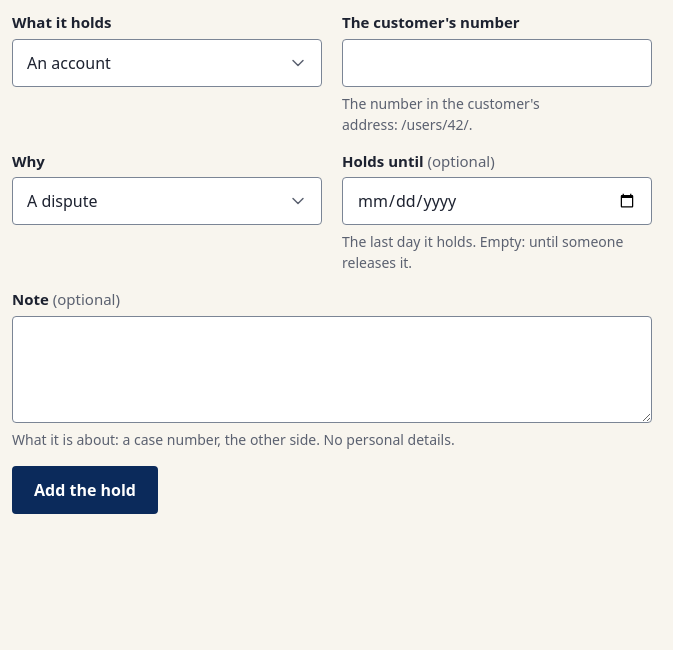
Test: legal holds › puts the API's refusal beside the record's number
Select "A data request" in the dropdown labelled "What it holds" at (167, 63), box x1=12 y1=39 x2=322 y2=87
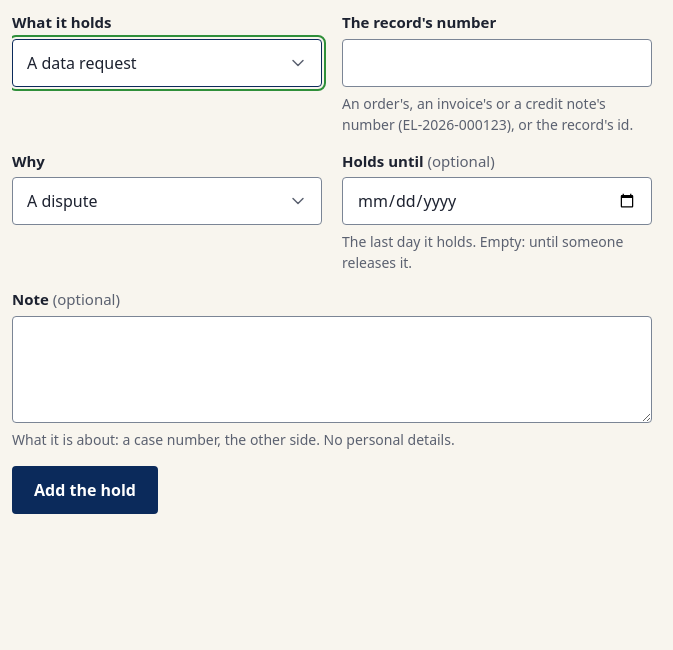
Type "999" into the field labelled "The record's number" at (497, 63), box x1=342 y1=39 x2=652 y2=87
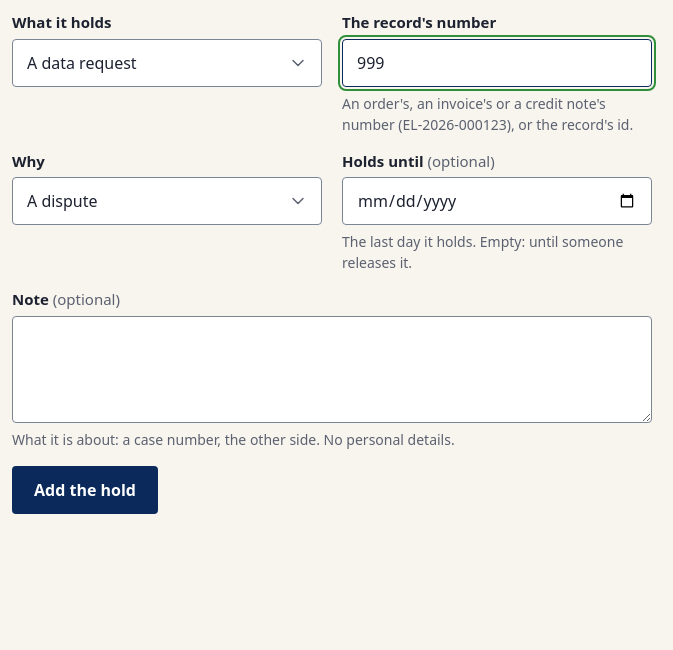
Click the button "Add the hold" at (85, 490), box x1=12 y1=466 x2=158 y2=514
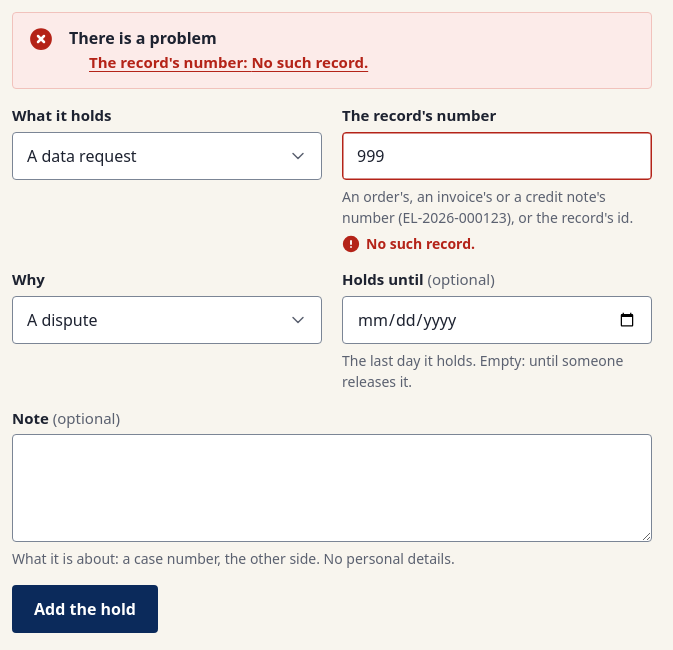
Check: the message shows "No such record.", box x1=89 y1=52 x2=368 y2=72
